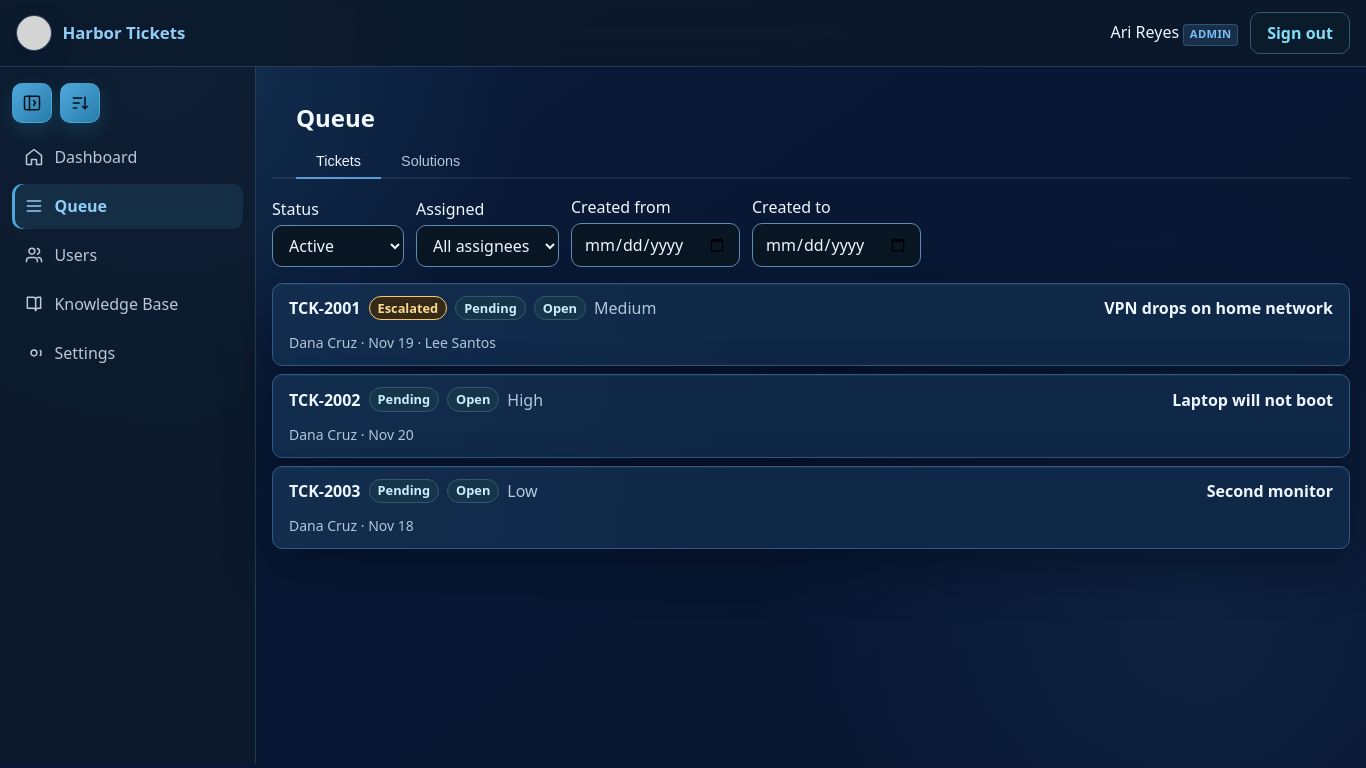
Test: admin queue and ticket detail (S3-06) › filters by status, assignee, and dates and shows an empty state
This screenshot has width=1366, height=768.
Check: the list named "Tickets" is shown, box top-left (272, 283), bottom-right (1350, 549)
Select "Pending" in the dropdown labelled "Status" at (338, 246), box top-left (272, 225), bottom-right (404, 267)
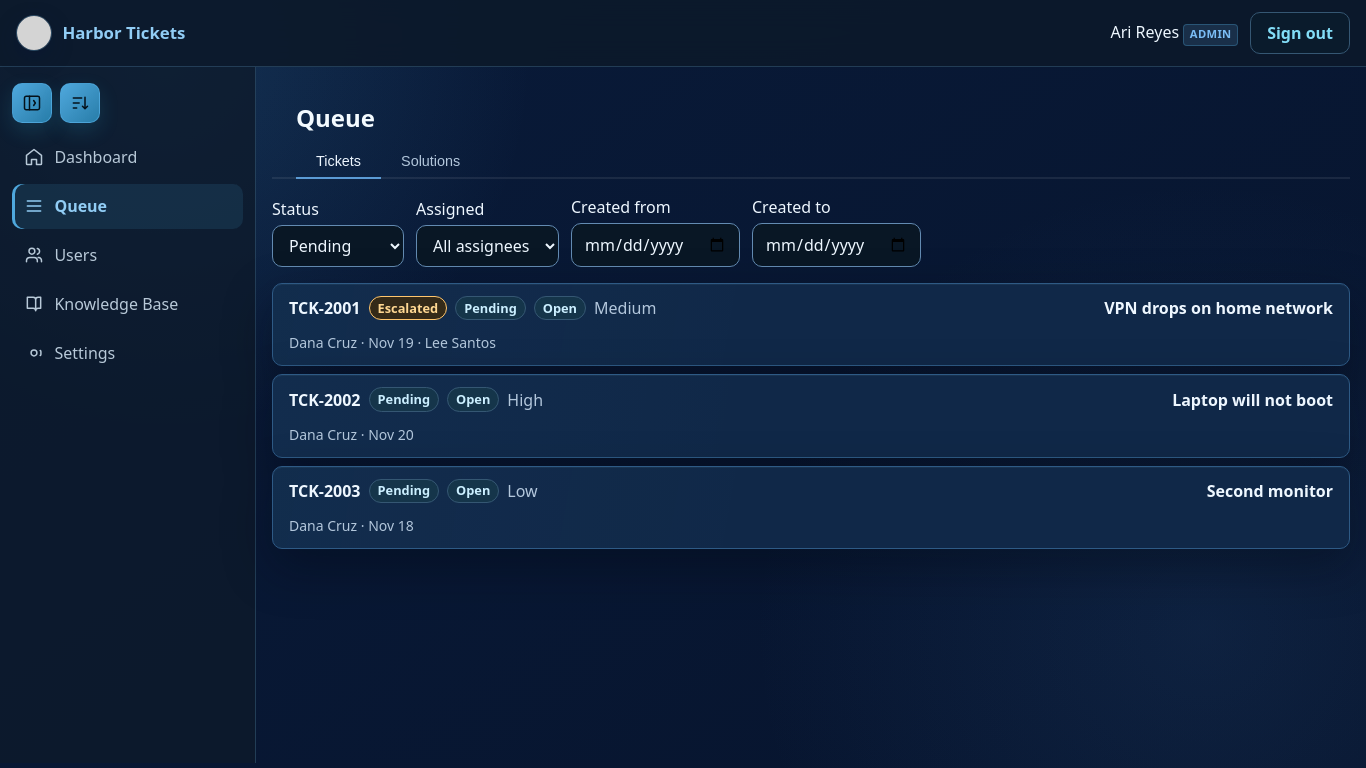
Select "Lee Santos" in the dropdown labelled "Assigned" at (488, 246), box top-left (416, 225), bottom-right (559, 267)
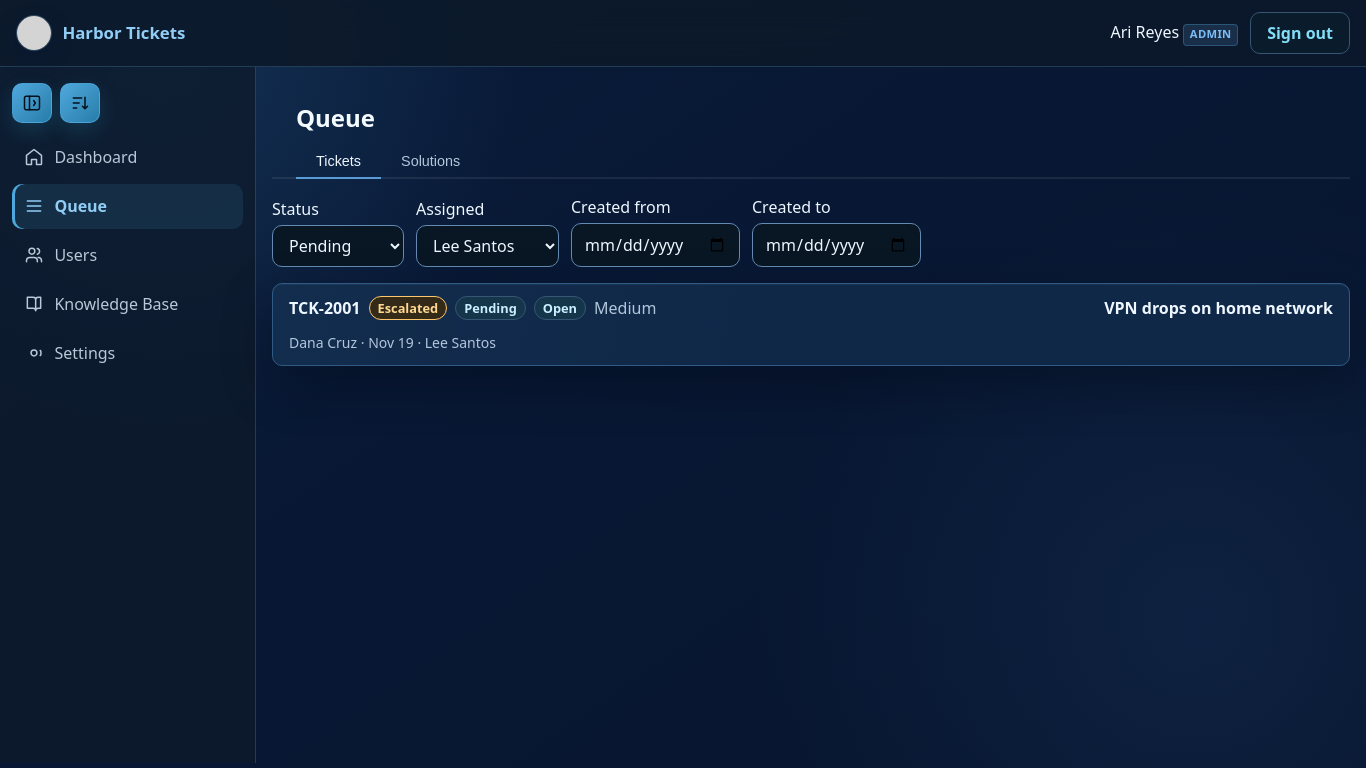
Type "2026-11-19" into the date field labelled "Created from".
click(656, 245); type("2026-11-19")  # box top-left (571, 223), bottom-right (740, 267)
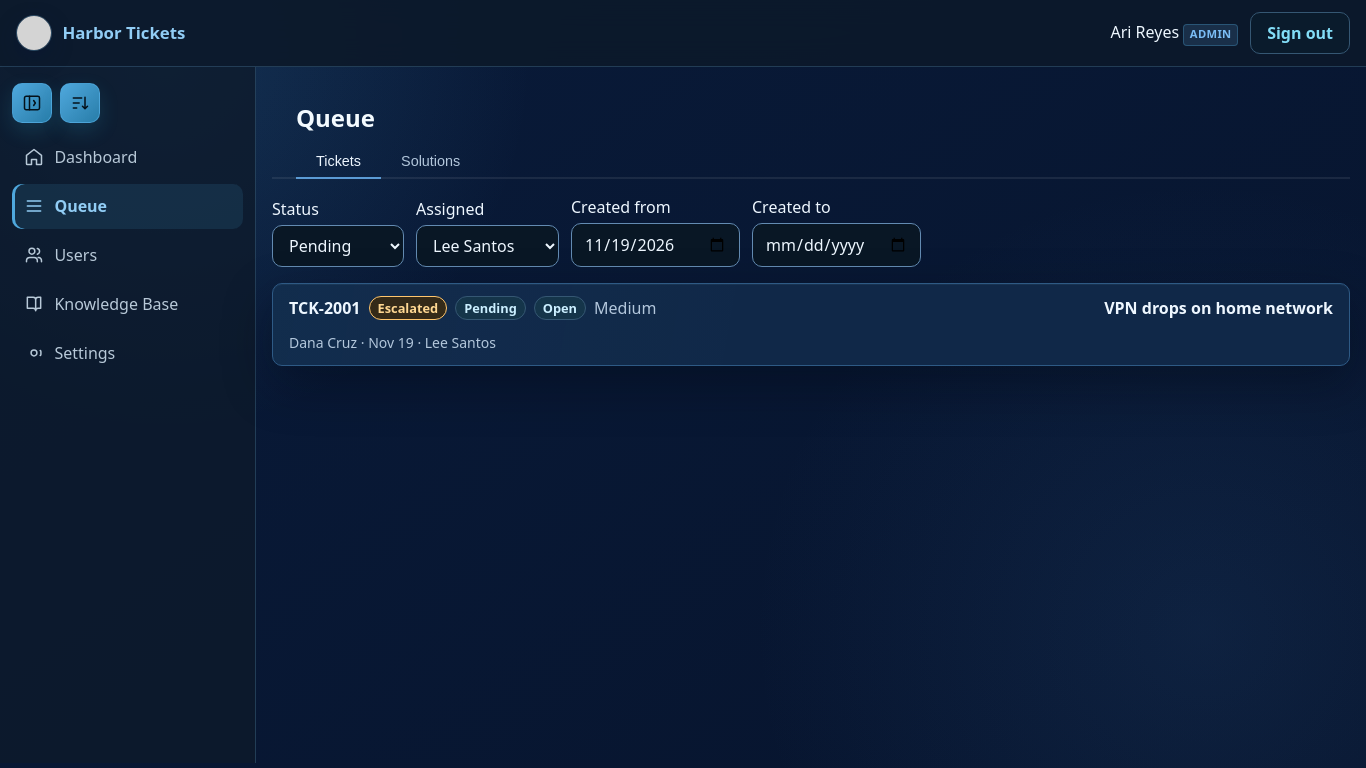
Type "2026-11-19" into the date field labelled "Created to".
click(836, 245); type("2026-11-19")  # box top-left (752, 223), bottom-right (921, 267)
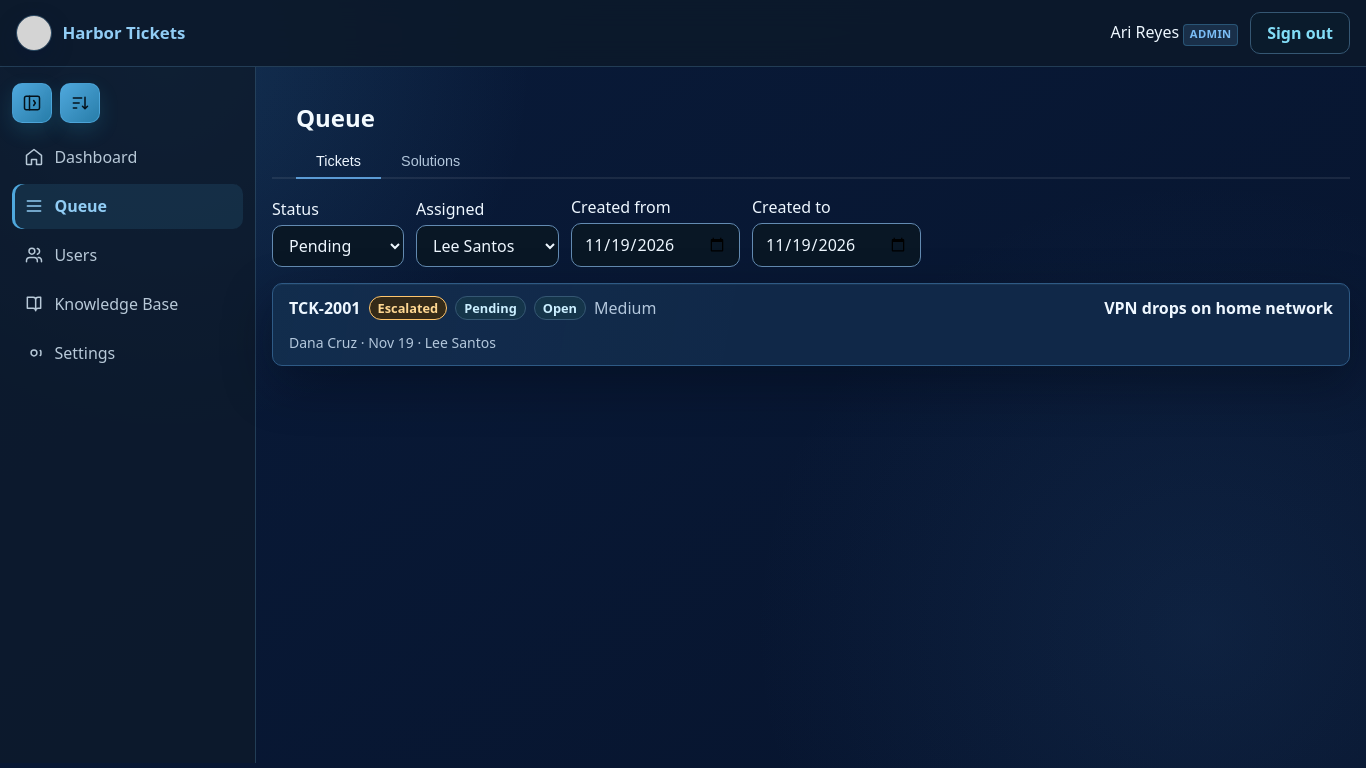
Check: the number of links "TCK-" is 1, box top-left (272, 283), bottom-right (1350, 366)
Type "2026-11-18" into the date field labelled "Created to".
click(836, 245); type("2026-11-18")  # box top-left (752, 223), bottom-right (921, 267)
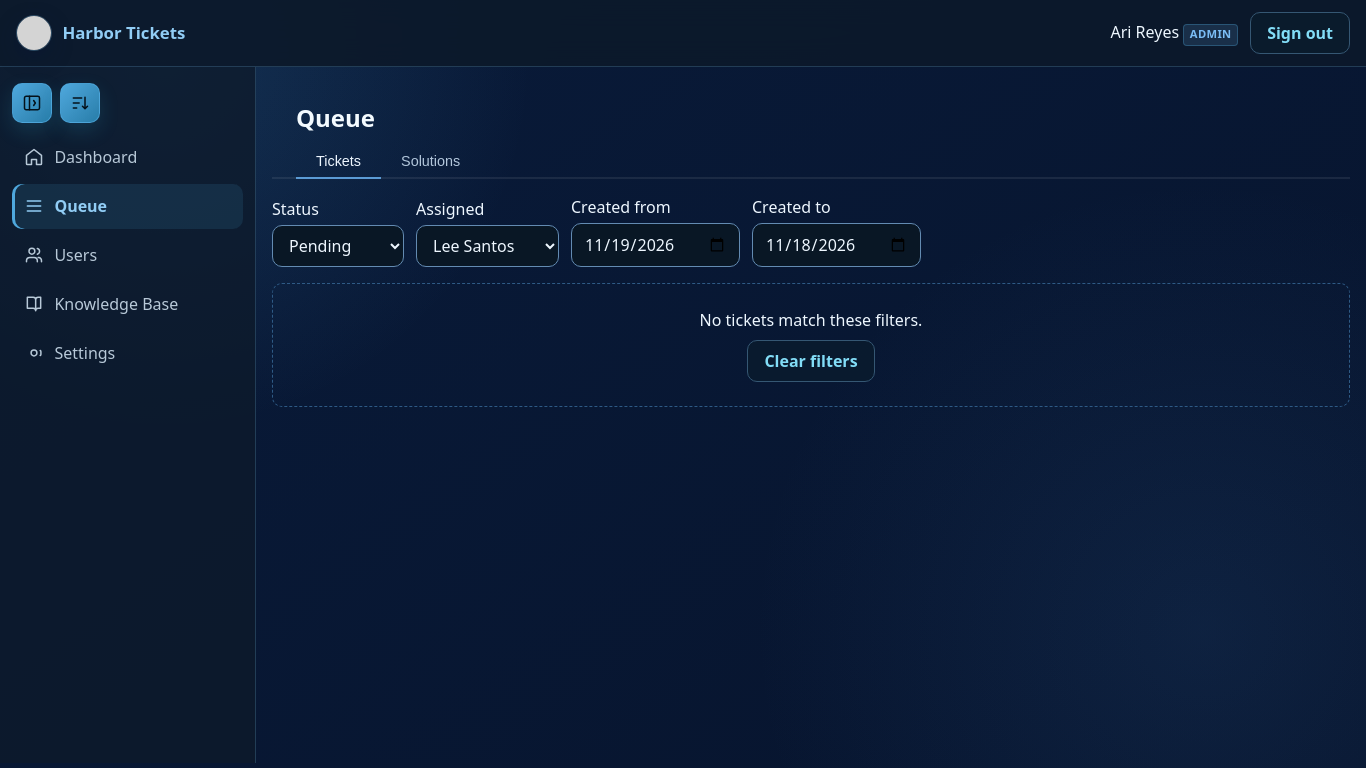
Check: the text "No tickets match these filters." is shown, box top-left (700, 309), bottom-right (922, 331)
Click the button "Clear filters".
click(811, 361)  # box top-left (747, 340), bottom-right (875, 382)
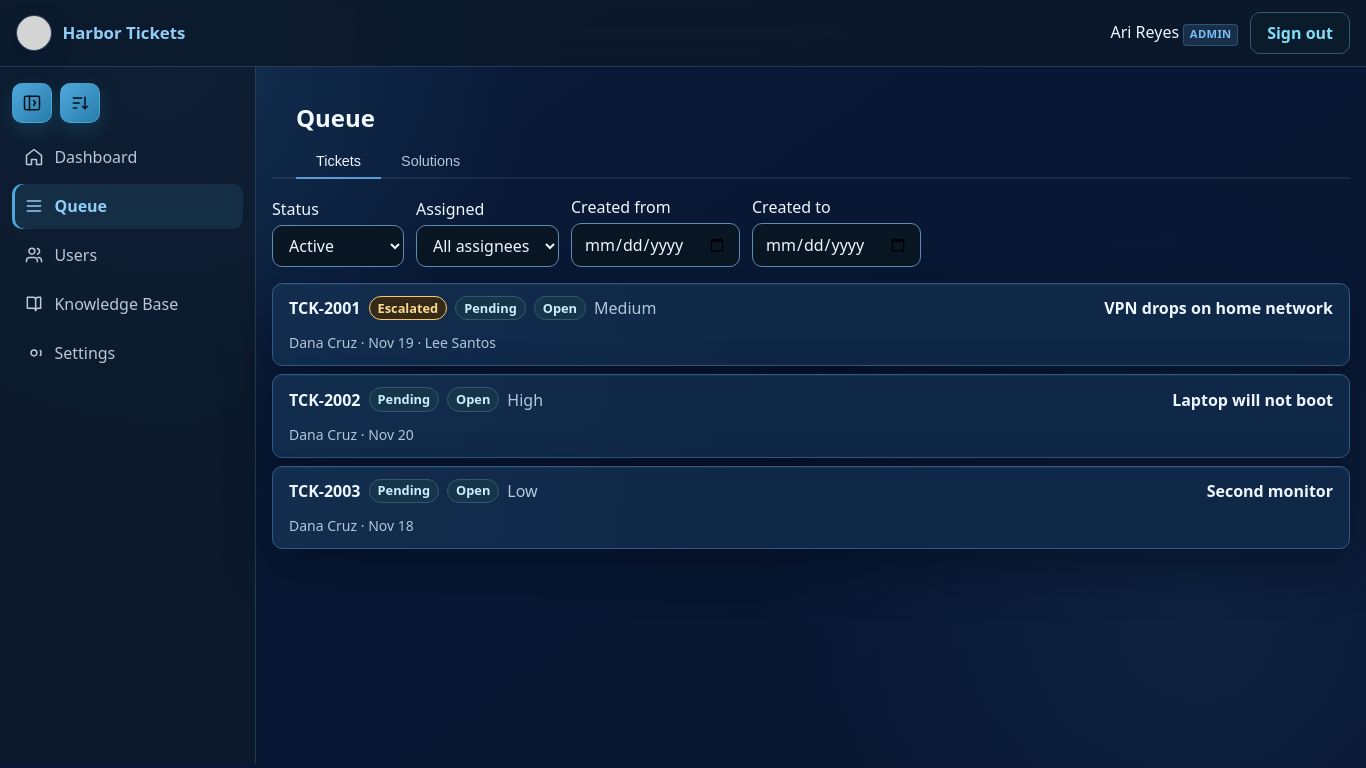
Check: the list named "Tickets" is shown, box top-left (272, 283), bottom-right (1350, 549)
